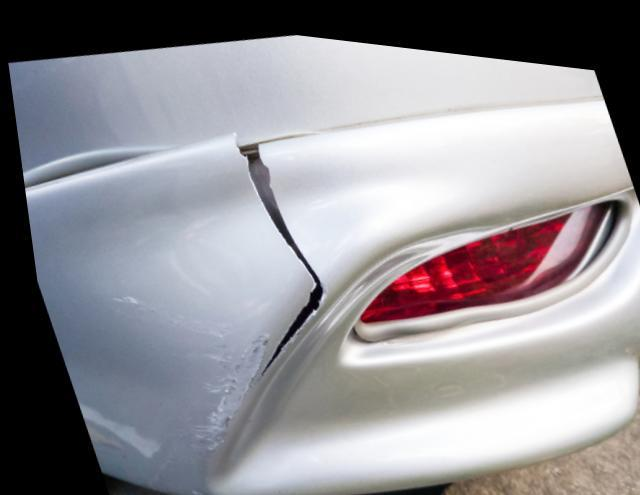crack: (231, 130, 317, 377)
scratch: (100, 287, 255, 451), (63, 390, 154, 455)
